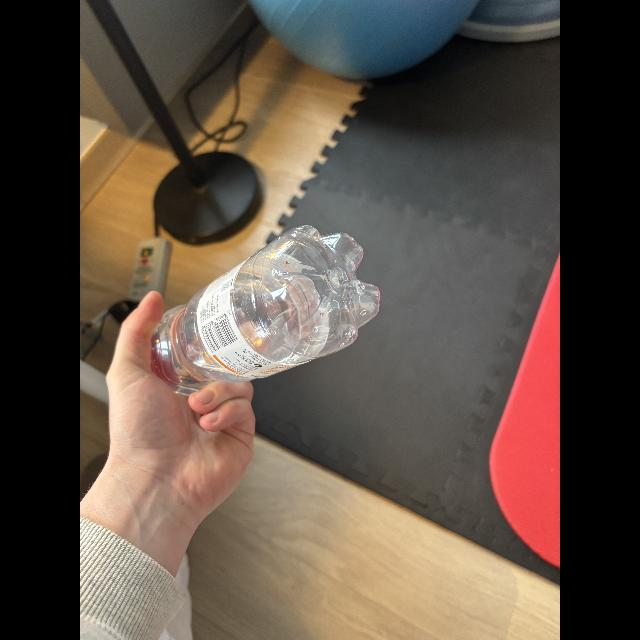Plastic: (146, 224, 372, 396)
